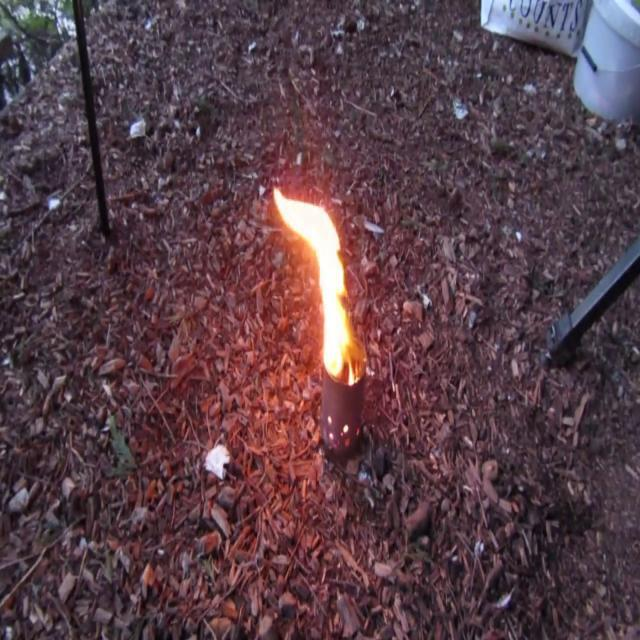Fire: (270, 176, 357, 374)
